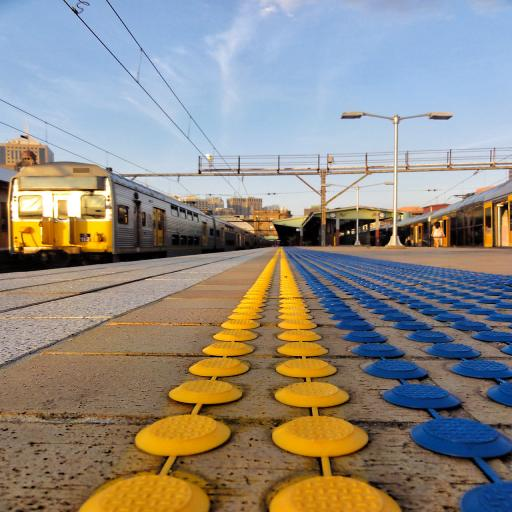platform_edge: (0, 234, 296, 370)
